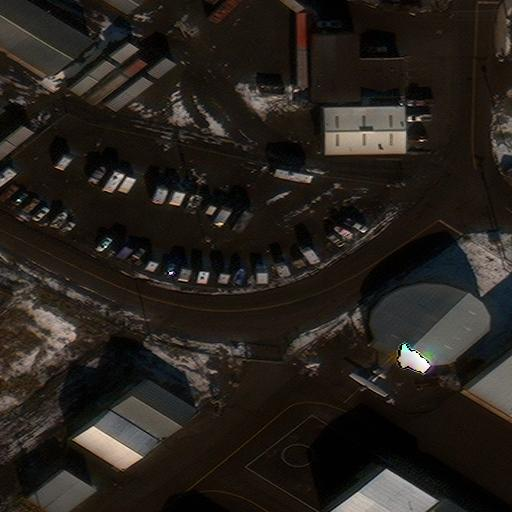Small Civil Transport: (349, 369, 383, 396)
